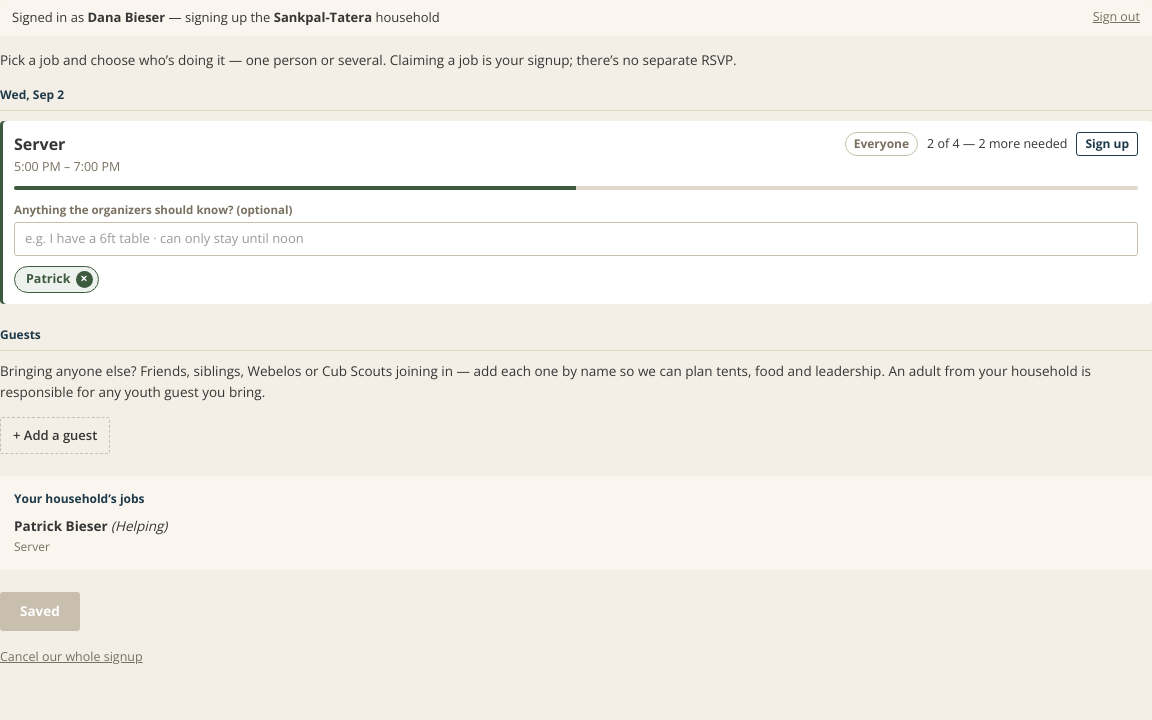
Test: slot-first form — guests (Patrick, 2026-08-23: "I added the guest Fred Pike and clicked Save Changes, nothing happened") › AddingAGuest_MakesTheDraftDirty_AndRemovingItAgain_MakesItClean
Click the button "+ Add a guest" at (55, 435), box [0,416,110,454]
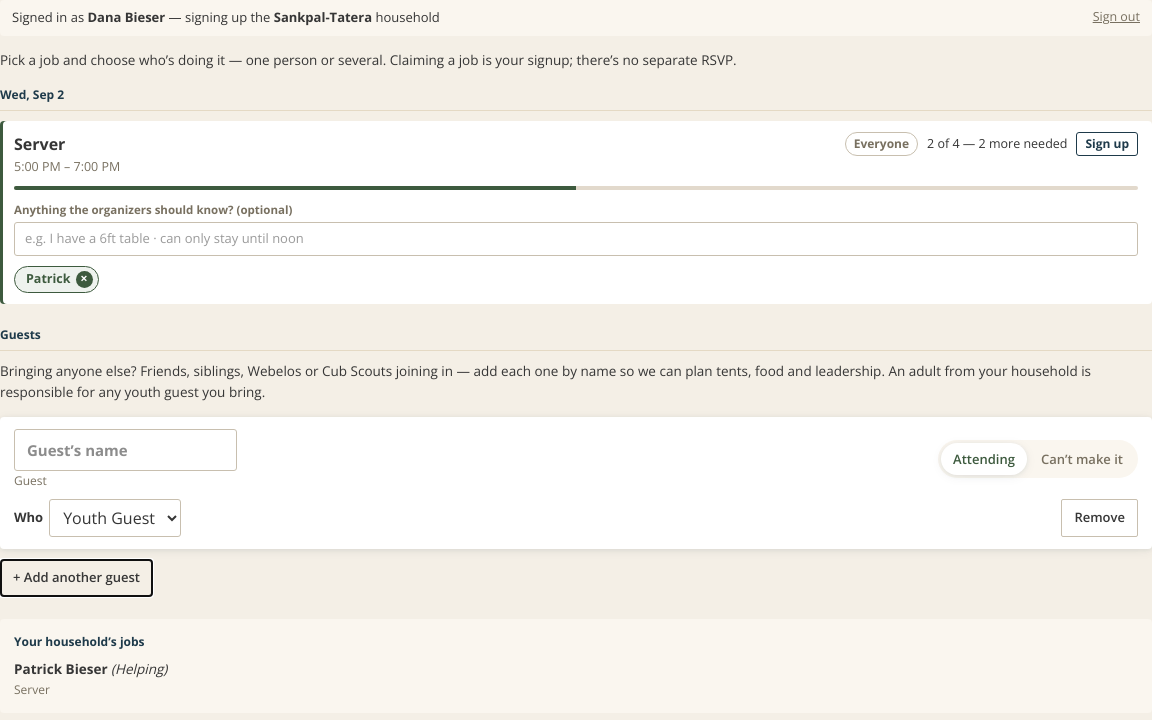
Type "Fred Pike" into the field named "guest name 1" at (126, 450), box [14,428,237,471]
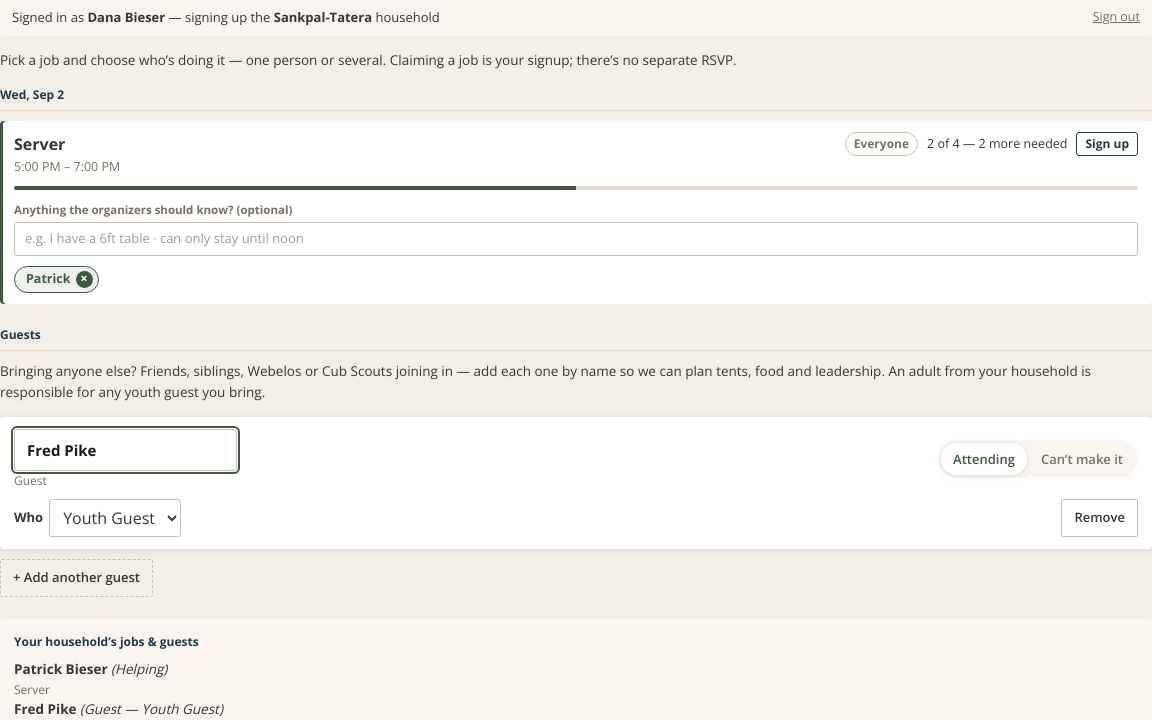
expect the text "Fred Pike" is shown: met, box [14,700,76,718]
Click the button with aria-label "remove guest 1" at (1100, 518), box [1061,499,1138,537]
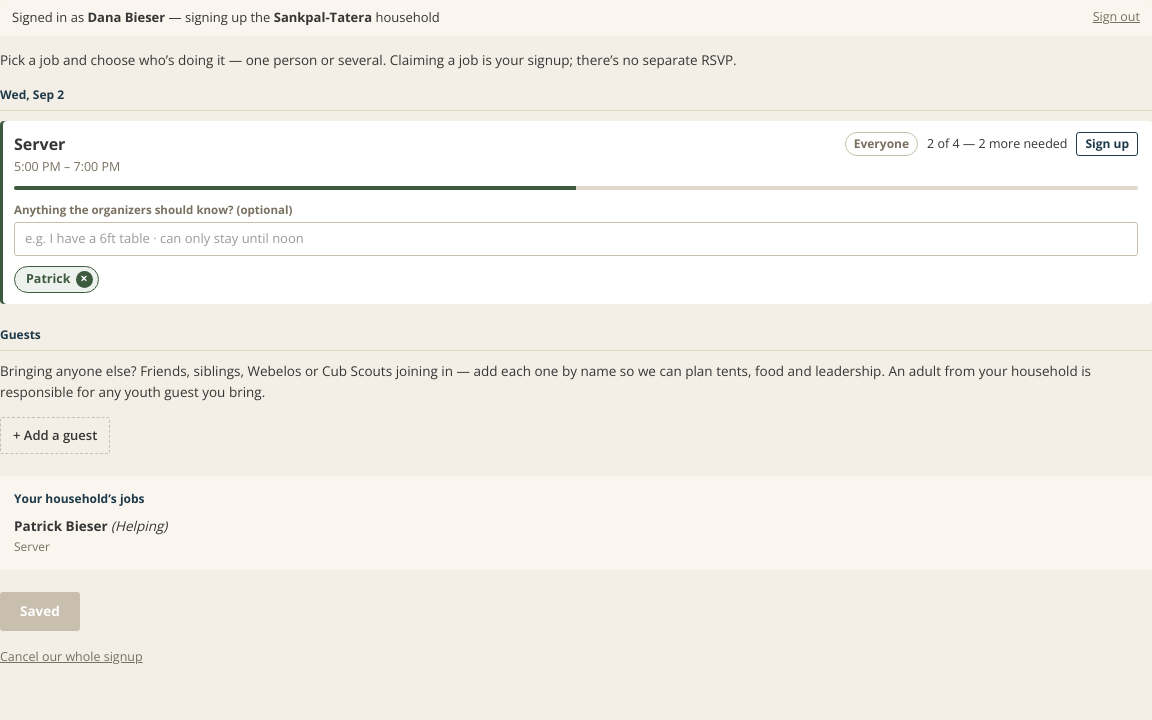
expect the button "Saved" is disabled: met, box [0,592,80,631]
